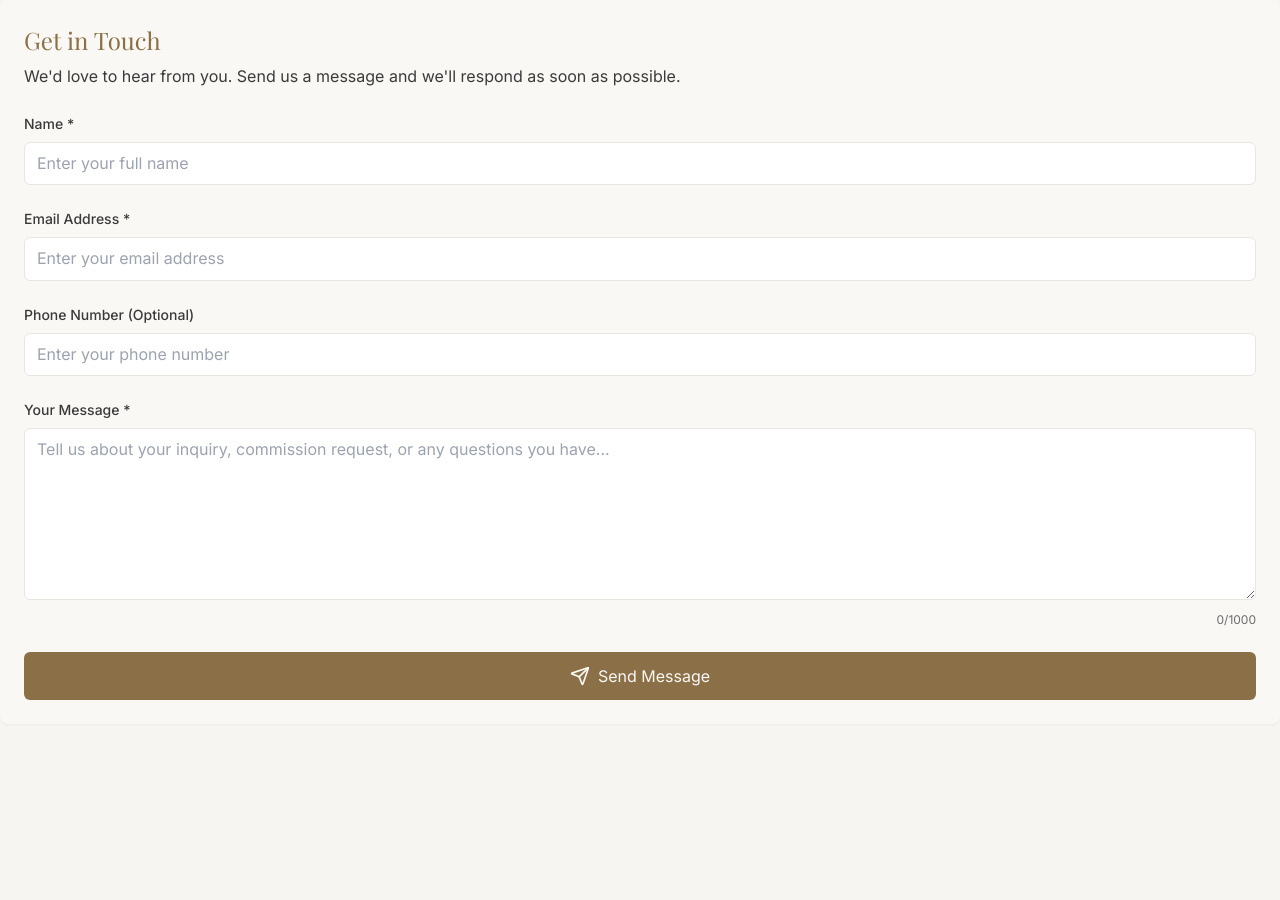
ContactFormSubmit › Required Field Validation › should validate name minimum length
In the field labelled "Name *": (640,163) [24,142,1256,185], type "A"
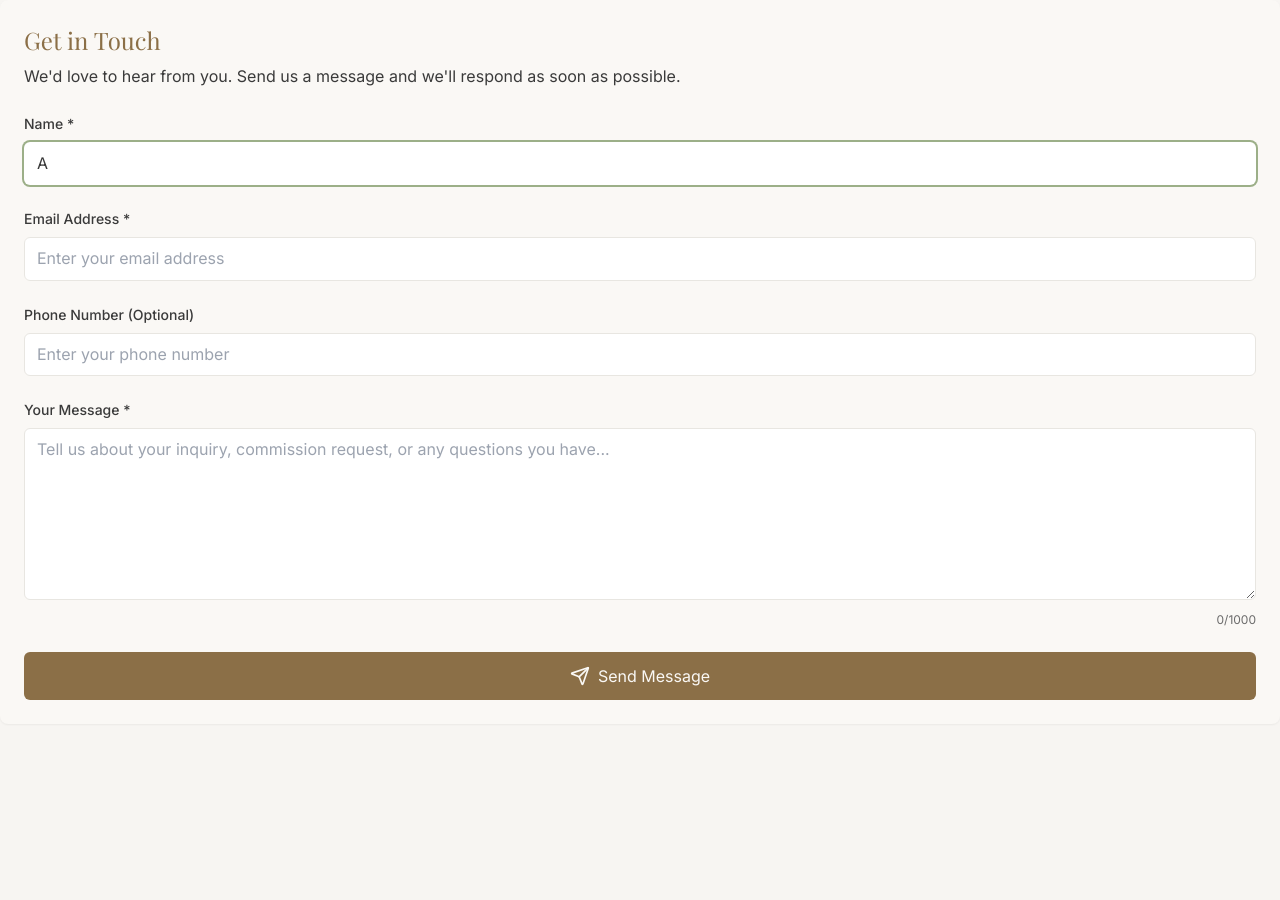
Submit the form named "send message"
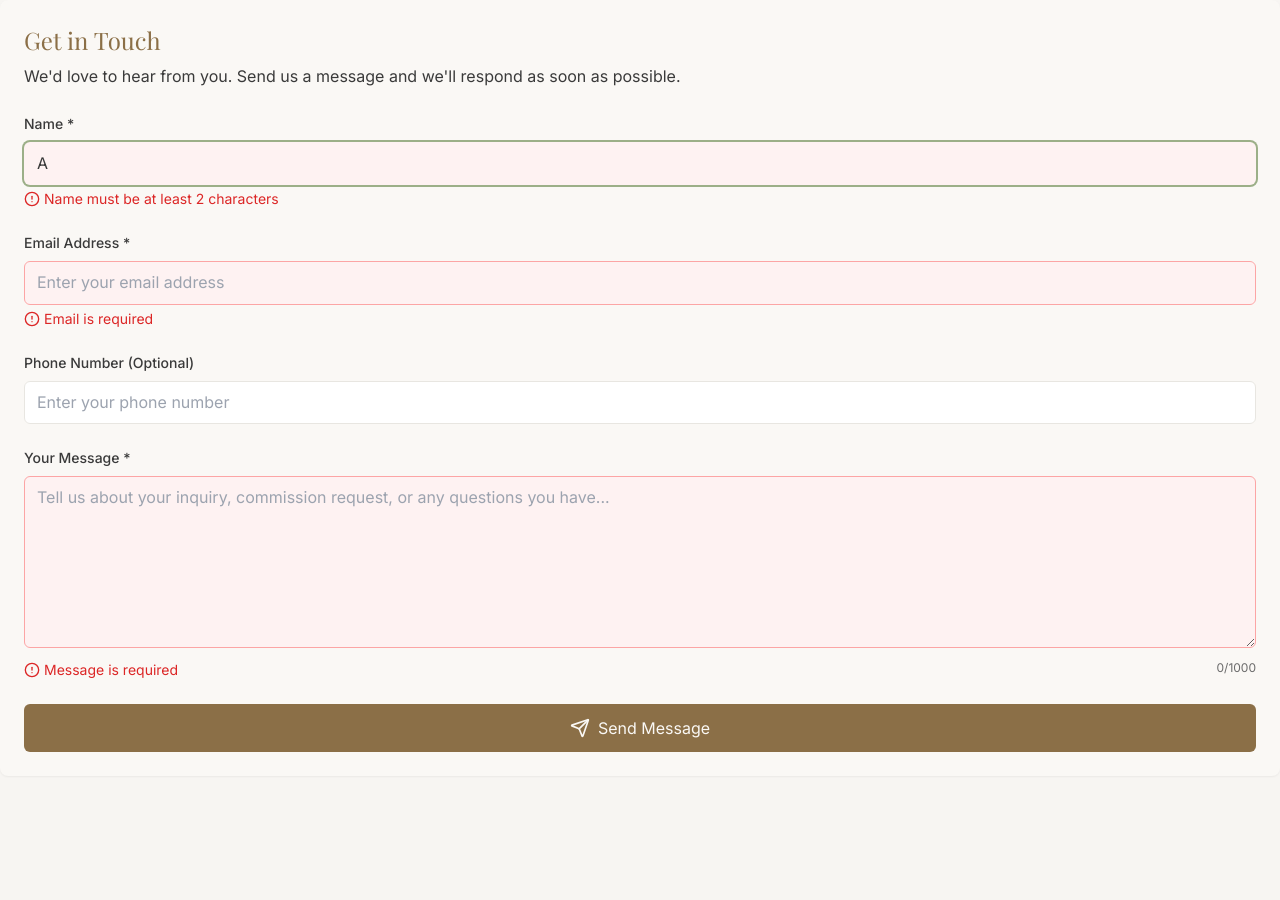
Now the text "Name must be at least 2 characters" is shown, box [44,189,279,209]
